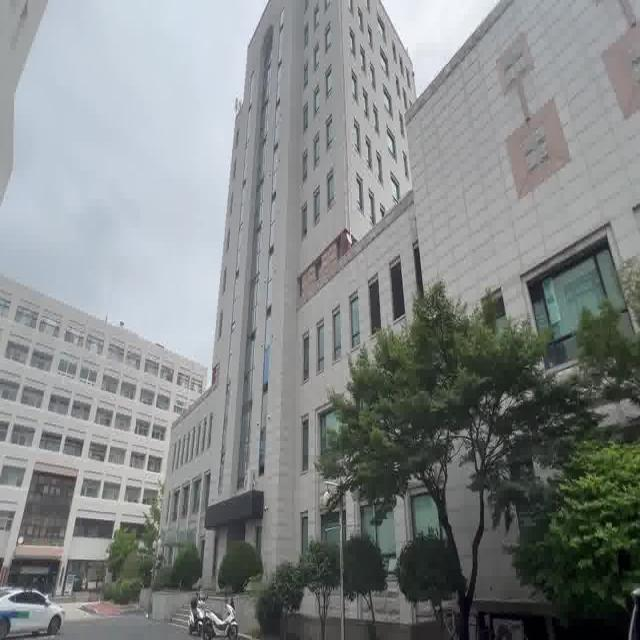building: (220, 0, 344, 480)
